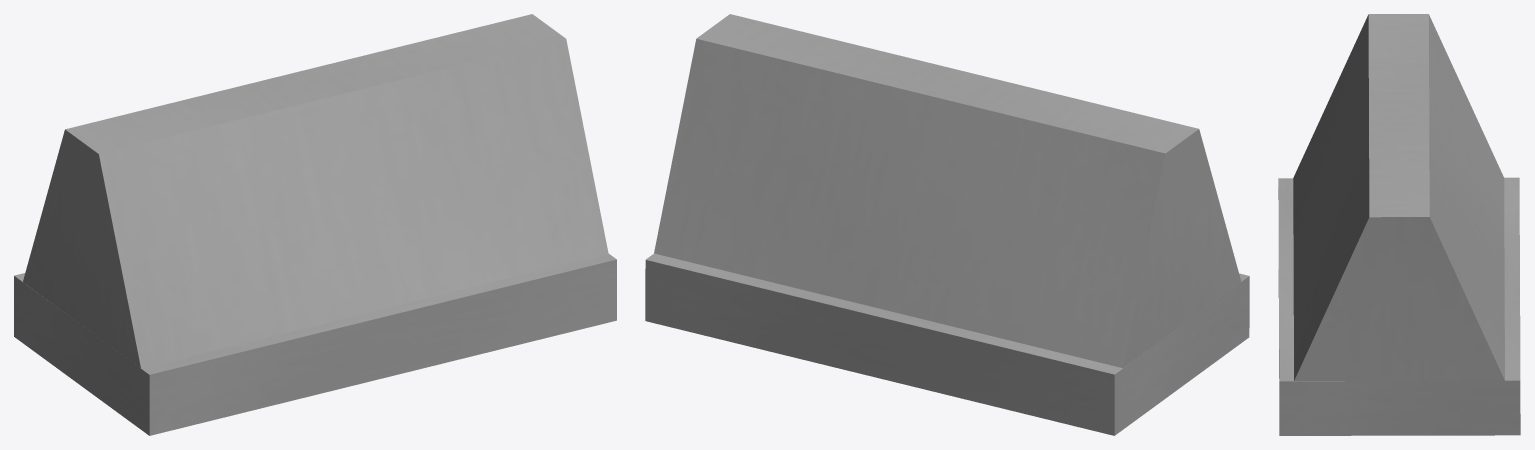
The model's file is platform_light_half_base.obj.
The picture shows the model from 3 angles, left to right: view 1: azimuth 30°, elevation 25°; view 2: azimuth 150°, elevation 25°; view 3: azimuth 270°, elevation 25°; orthographic projection. The views are drawn at different scales.
Parts seen in each view (by area): view 1: 1, 0; view 2: 1, 0; view 3: 1, 0.
Boxes of the visible parts, x1=… form: 1: x1=23, y1=14, x2=608, y2=368; 0: x1=14, y1=253, x2=616, y2=435; 1: x1=654, y1=14, x2=1241, y2=367; 0: x1=645, y1=253, x2=1249, y2=435; 1: x1=1293, y1=14, x2=1504, y2=380; 0: x1=1278, y1=177, x2=1520, y2=435.
Size of the model in its own units: 16.02 by 8.04 by 8.03.
